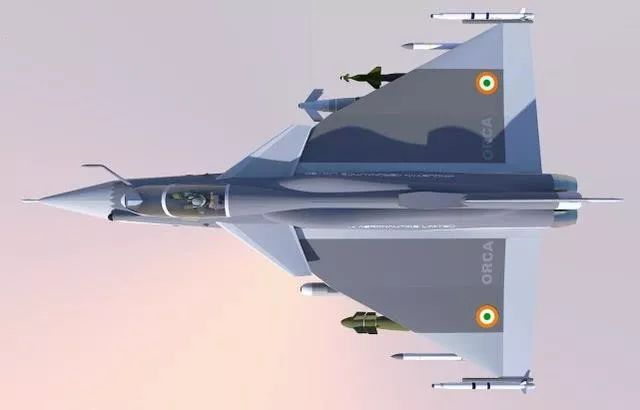airplane: (20, 7, 624, 396)
